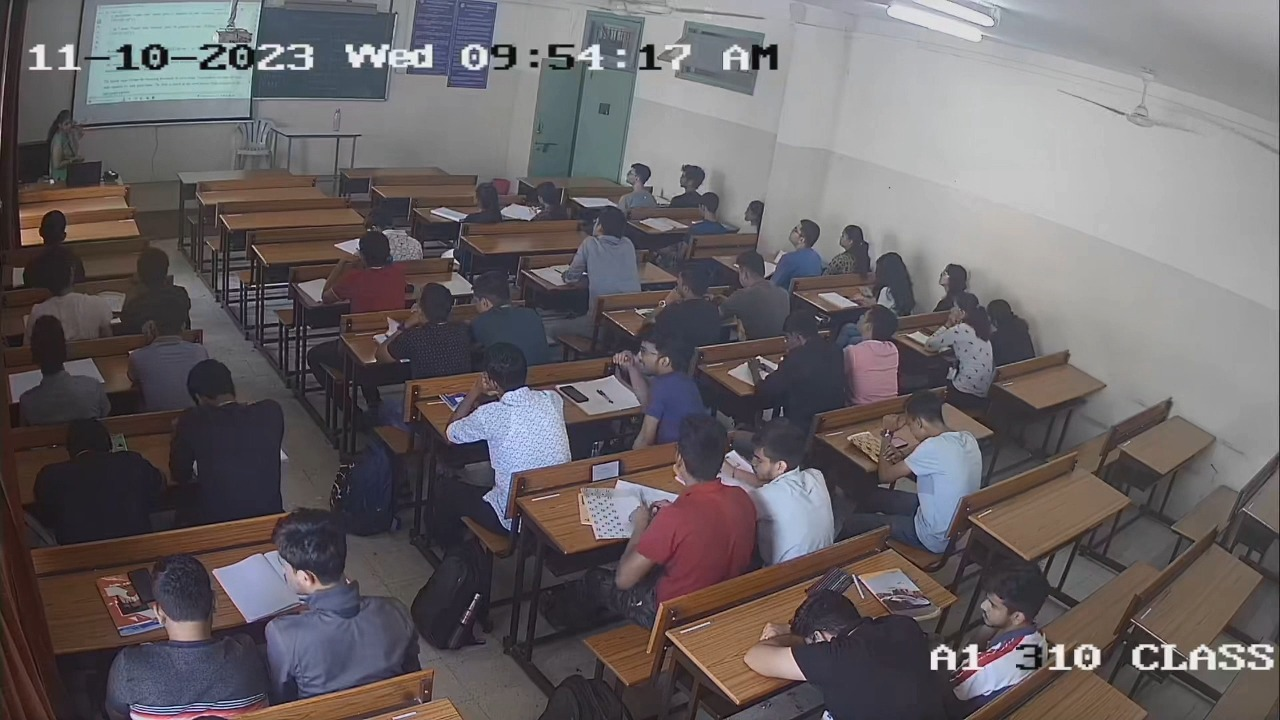cell-phones: (124, 565, 156, 606), (587, 457, 625, 484), (558, 382, 592, 405), (890, 436, 911, 450), (858, 285, 876, 298)
person: (99, 555, 267, 718), (618, 417, 758, 587), (439, 343, 575, 469), (877, 390, 984, 495), (870, 251, 918, 308)
